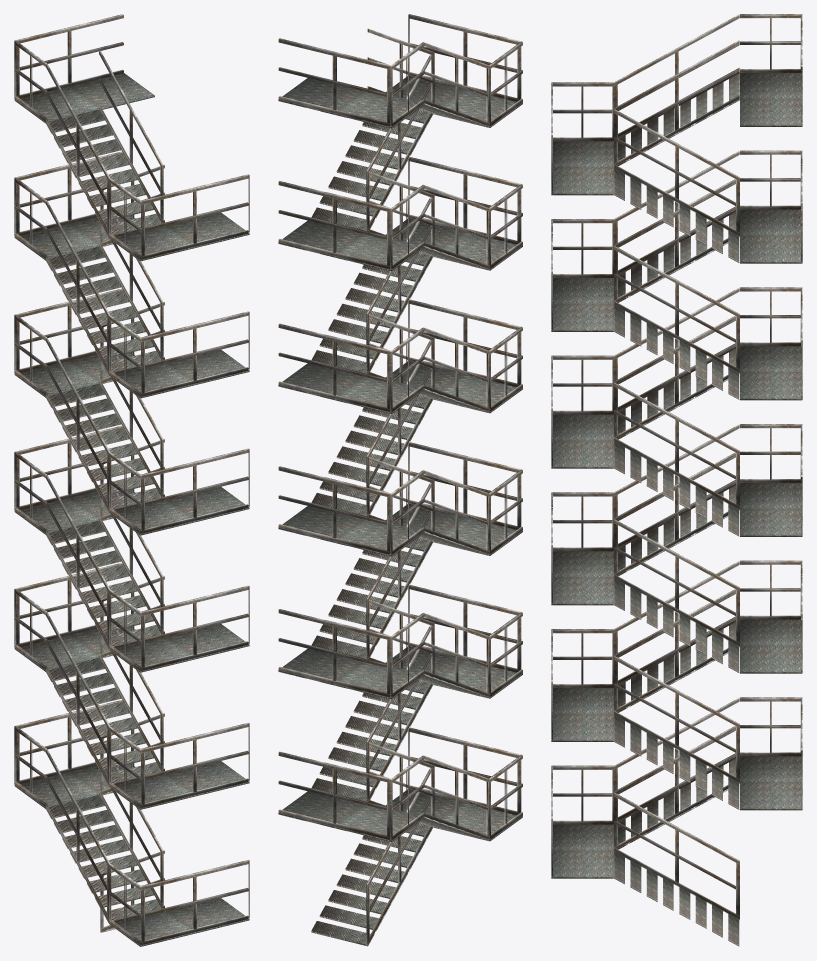
Rendered from escalera_emerg.obj.
3 views of the same model, side by side, from view 1: azimuth 30°, elevation 25°; view 2: azimuth 150°, elevation 25°; view 3: azimuth 270°, elevation 25° (orthographic). The views are drawn at different scales.
Visible parts, largest first — view 1: escalera; view 2: escalera; view 3: escalera.
Part boxes in pixels (<box>): escalera: <box>14,14,249,946</box>; escalera: <box>278,14,522,946</box>; escalera: <box>551,14,802,946</box>.
Size of the model in its own units: 2 by 15.45 by 4.
1 material, 1 textured.
